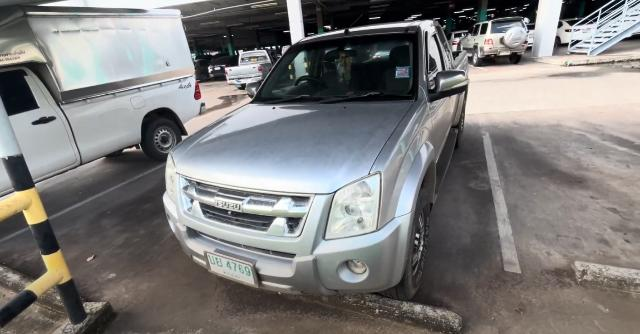pickup-truck: (158, 21, 469, 304)
